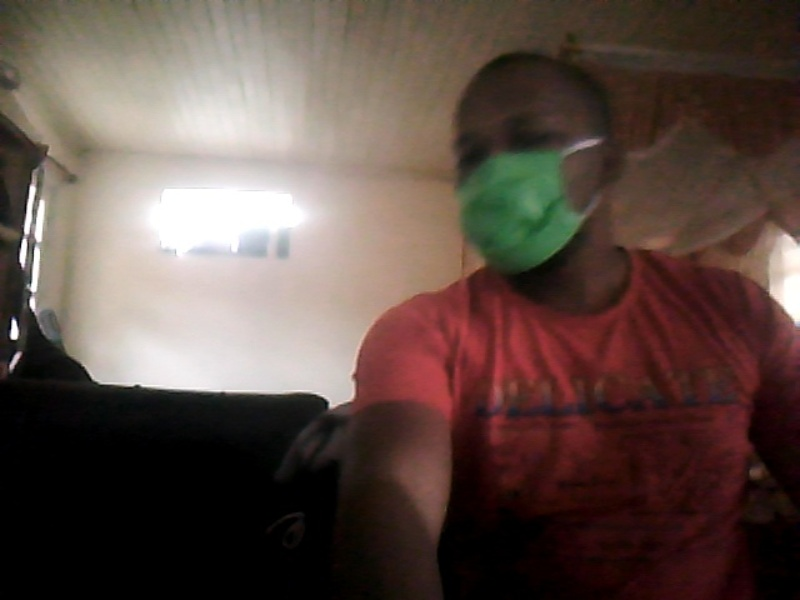ManaoArotava: (431, 54, 618, 287)
